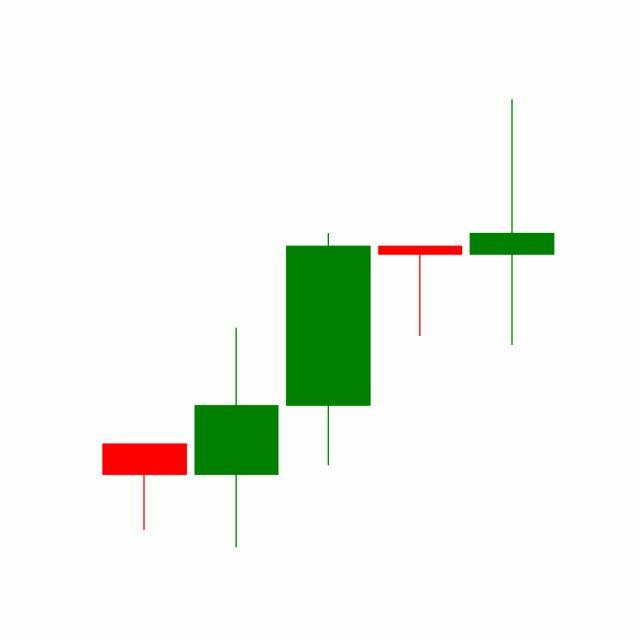Hanging Man: (374, 244, 468, 338)
